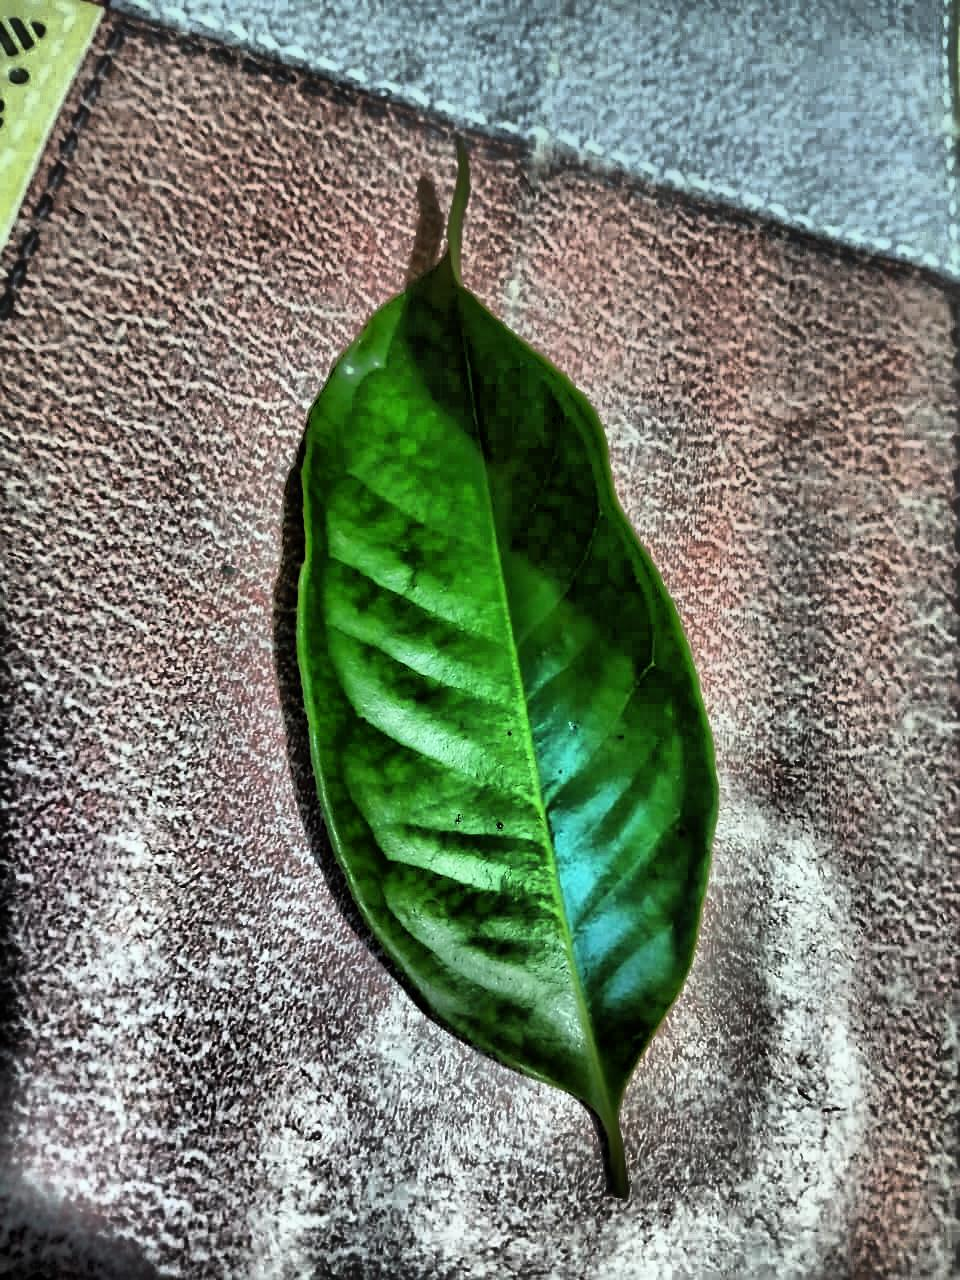daun salam: (296, 147, 716, 1194)
